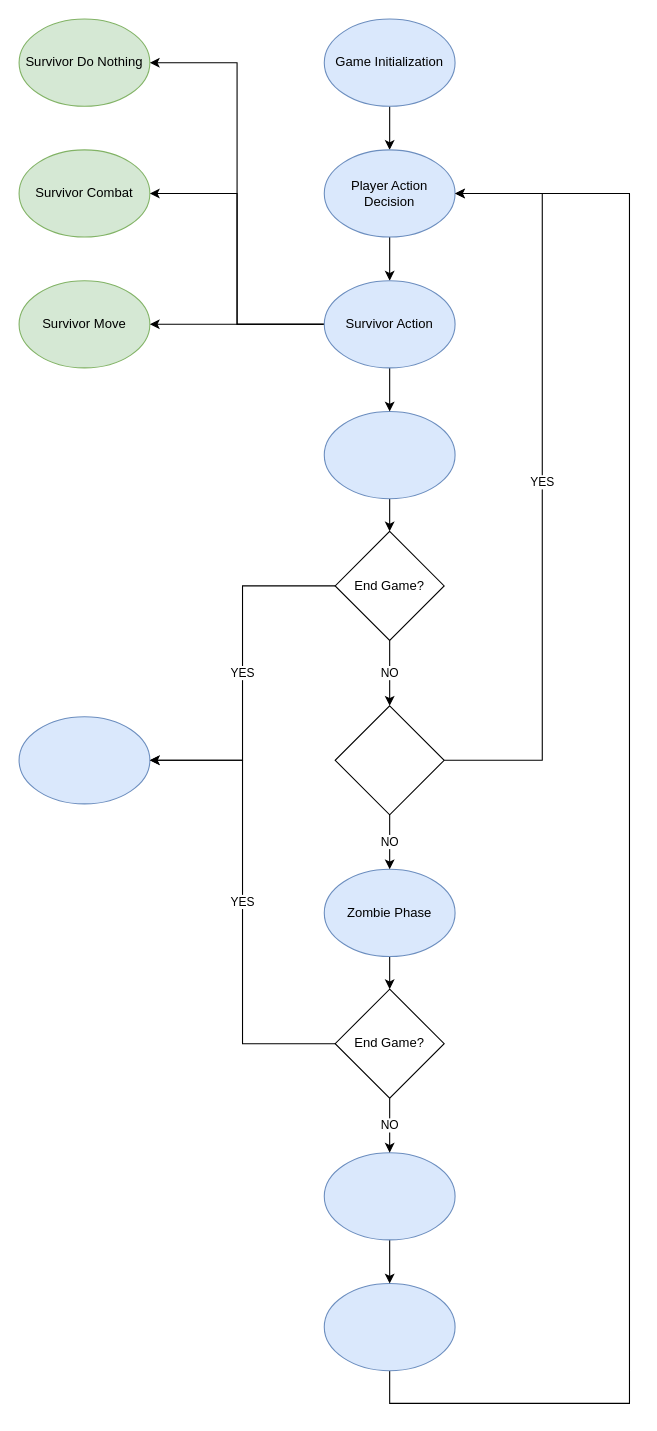
Image size: 657x1431. Some labels were removed from this diagram. Here are the shapes that lost their labels. From the top down, the centre of each, then its label:
At (389,454): "End Survivor Action".
At (84,760): "End Game".
At (389,760): "Action remaining or survivors turn remaining".
At (389,1196): "Spawn Zombie".
At (389,1326): "End Phase".
